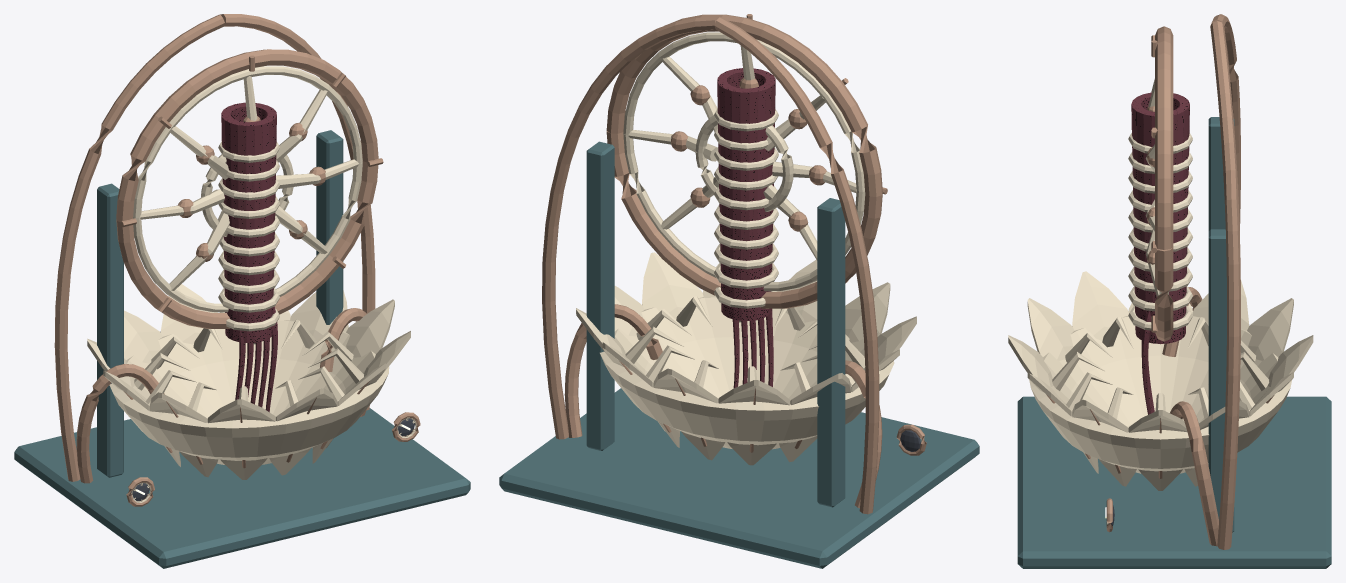
The model's file is intake_wheel_reservoir.glb.
The picture shows the model from 3 angles, left to right: view 1: azimuth 30°, elevation 25°; view 2: azimuth 150°, elevation 25°; view 3: azimuth 270°, elevation 25°; orthographic projection. The views are drawn at different scales.
Visible parts, largest first — view 1: intake_wheel_reservoir_warm, intake_wheel_reservoir_petrol, intake_wheel_reservoir_worn, intake_wheel_reservoir_bruised; view 2: intake_wheel_reservoir_petrol, intake_wheel_reservoir_warm, intake_wheel_reservoir_worn, intake_wheel_reservoir_bruised; view 3: intake_wheel_reservoir_petrol, intake_wheel_reservoir_warm, intake_wheel_reservoir_worn, intake_wheel_reservoir_bruised.
Boxes of the visible parts, x1,y1,x2,y2 form: intake_wheel_reservoir_warm: [87, 66, 416, 502]; intake_wheel_reservoir_petrol: [14, 130, 470, 568]; intake_wheel_reservoir_worn: [54, 14, 420, 506]; intake_wheel_reservoir_bruised: [221, 102, 277, 412]; intake_wheel_reservoir_petrol: [499, 141, 979, 568]; intake_wheel_reservoir_warm: [576, 32, 921, 465]; intake_wheel_reservoir_worn: [542, 14, 926, 514]; intake_wheel_reservoir_bruised: [717, 68, 775, 387]; intake_wheel_reservoir_petrol: [1017, 117, 1331, 568]; intake_wheel_reservoir_warm: [1008, 79, 1313, 524]; intake_wheel_reservoir_worn: [1046, 14, 1274, 549]; intake_wheel_reservoir_bruised: [1131, 92, 1189, 414].
Size of the model in its own units: 5.53 by 7.45 by 4.63.
Materials: 6 (1 with a texture image).
